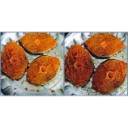seerfish: (66, 44, 94, 86), (95, 59, 127, 93), (84, 33, 125, 57), (2, 40, 27, 78), (29, 56, 60, 86), (19, 32, 57, 52)
